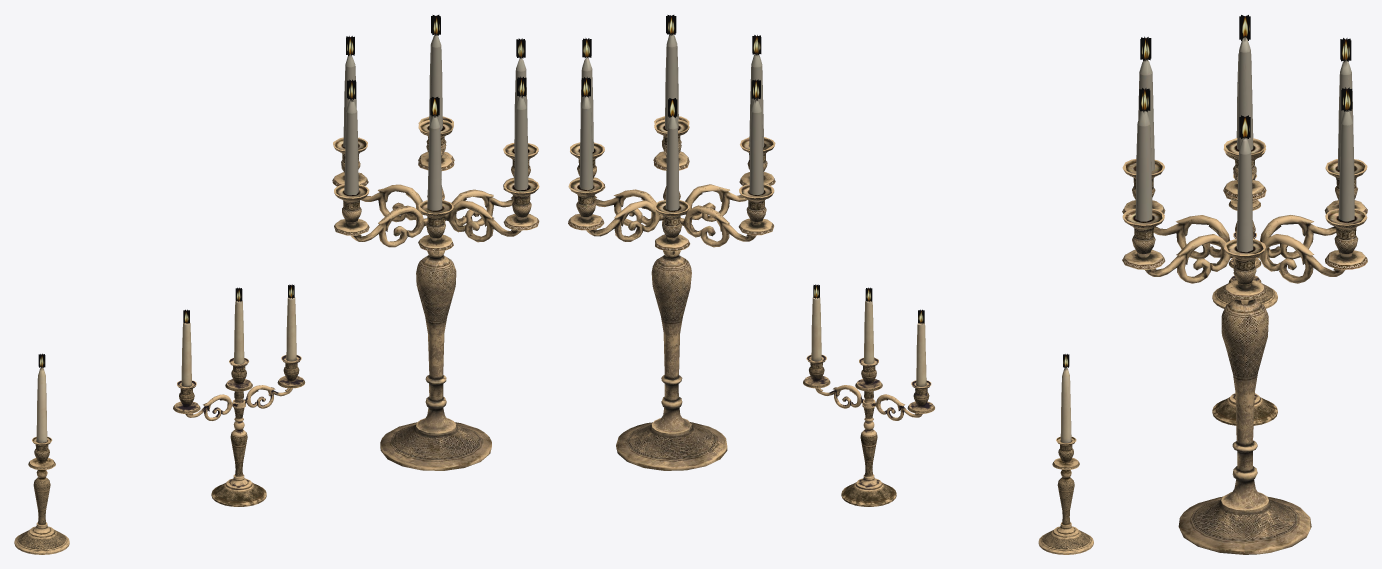
Rendered from brass_candleholders.glb.
3 views of the same model, side by side, from view 1: azimuth 30°, elevation 25°; view 2: azimuth 150°, elevation 25°; view 3: azimuth 270°, elevation 25° (orthographic). The views are drawn at different scales.
Visible parts, largest first — view 1: brass_candleholder_03, brass_candleholder_02, brass_candleholder_01; view 2: brass_candleholder_03, brass_candleholder_02, brass_candleholder_01; view 3: brass_candleholder_03, brass_candleholder_02, brass_candleholder_01.
Boxes of the visible parts, x1=… form: brass_candleholder_03: x1=332, y1=15, x2=539, y2=470; brass_candleholder_02: x1=173, y1=284, x2=305, y2=506; brass_candleholder_01: x1=14, y1=353, x2=69, y2=554; brass_candleholder_03: x1=568, y1=15, x2=775, y2=470; brass_candleholder_02: x1=803, y1=284, x2=934, y2=506; brass_candleholder_01: x1=1038, y1=354, x2=1093, y2=554; brass_candleholder_03: x1=1122, y1=15, x2=1367, y2=554; brass_candleholder_02: x1=1212, y1=232, x2=1277, y2=425; brass_candleholder_01: x1=1212, y1=174, x2=1277, y2=308.
Size of the model in its own units: 1.05 by 0.8353 by 0.3645.
Materials: 5 (5 with a texture image).
